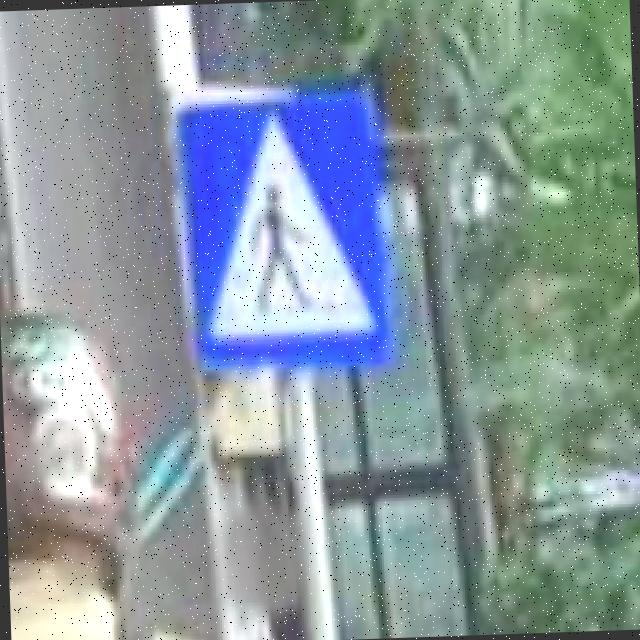Przejscie dla pieszych: (170, 98, 388, 377)
